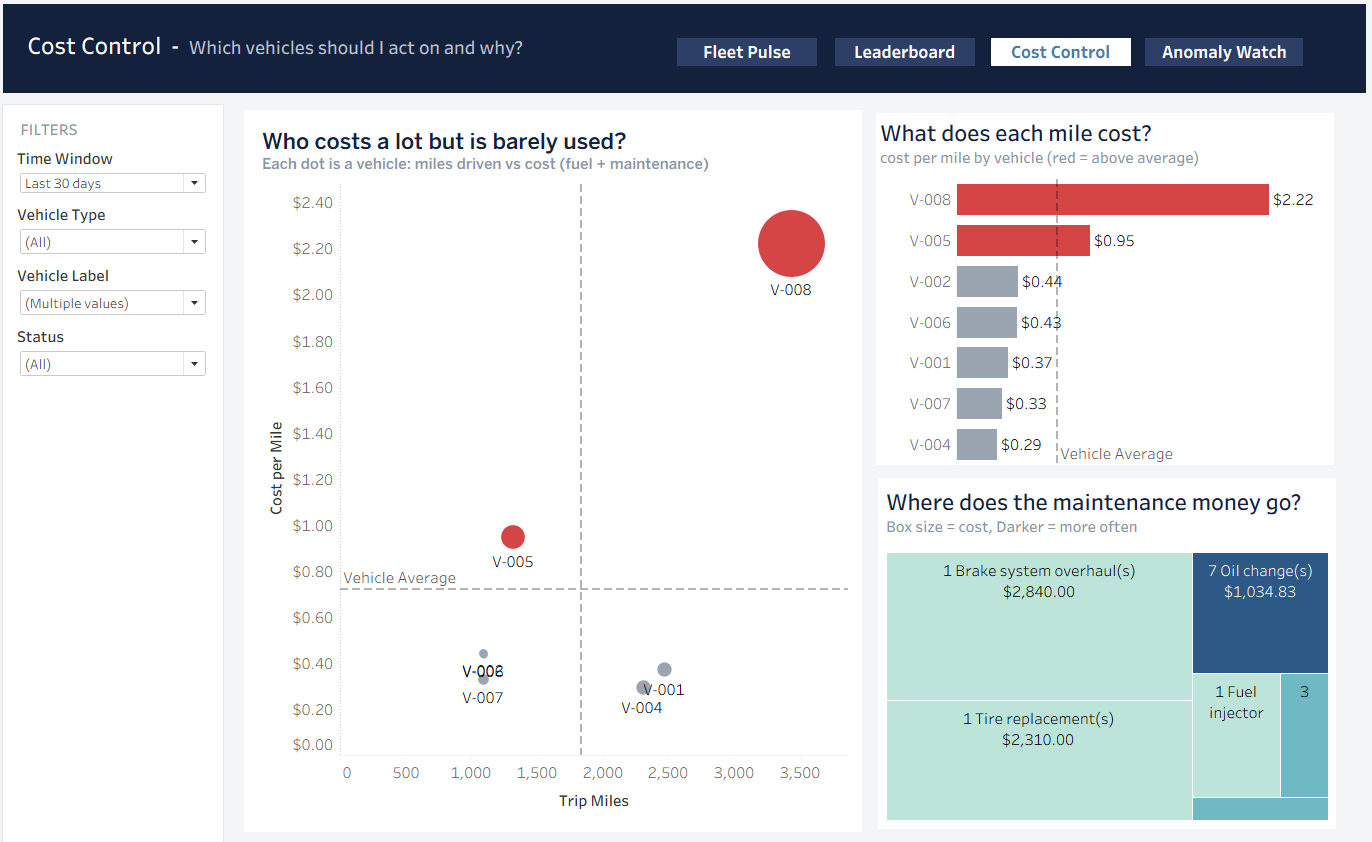

Layout of this report page (visuals, bound fields, positions):
{"tool":"tableau","page":{"name":"Cost Control","canvas":[1400,900],"ordinal":1},"visuals":[{"type":"text","box":[40,37,578,32]},{"type":"dashboard-object","box":[693,46,140,28]},{"type":"dashboard-object","box":[851,46,140,28]},{"type":"dashboard-object","box":[1007,46,140,28]},{"type":"dashboard-object","box":[1161,46,158,28]},{"type":"worksheet","title":"Cost per Mile","mark":"Automatic","rows":["vehicle_code"],"cols":["Calculation_0860095033524233"],"box":[888,117,466,359.9]},{"type":"text","box":[29,123,200,29]},{"type":"worksheet","title":"Cost vs Usage","mark":"Circle","rows":["Calculation_0860095033524233"],"cols":["trip_miles"],"box":[270,128,598,702]},{"type":"parameter","param":"[Parameters].[Parameter 0860095027589120]","box":[29,152,200,56]},{"type":"filter","title":"Cost vs Usage","param":"[federated.0ieta591od6l6310zs0tm09nx7go].[none:vehicle_type:nk]","box":[29,208,200,61]},{"type":"filter","title":"Cost vs Usage","param":"[federated.0ieta591od6l6310zs0tm09nx7go].[none:Calculation_1711941793247232:nk]","box":[29,269,200,61]},{"type":"filter","title":"Cost per Mile","param":"[federated.0ieta591od6l6310zs0tm09nx7go].[none:status:nk]","box":[29,330,200,61]},{"type":"worksheet","title":"Maintenance Treemap","mark":"Square","box":[894,486,458,351]}]}

Visuals, with their boxes on the page's 1400x900 design canvas (x1, y1, x2, y2). These are canvas units, not pixel positions in the 1372x842 screenshot, which may show the page scaled, cropped or inside an application window:
text: region(40, 37, 618, 69)
dashboard-object: region(693, 46, 833, 74)
dashboard-object: region(851, 46, 991, 74)
dashboard-object: region(1007, 46, 1147, 74)
dashboard-object: region(1161, 46, 1319, 74)
"Cost per Mile" worksheet: region(888, 117, 1354, 477)
text: region(29, 123, 229, 152)
"Cost vs Usage" worksheet (Circle marks): region(270, 128, 868, 830)
parameter: region(29, 152, 229, 208)
"Cost vs Usage" filter: region(29, 208, 229, 269)
"Cost vs Usage" filter: region(29, 269, 229, 330)
"Cost per Mile" filter: region(29, 330, 229, 391)
"Maintenance Treemap" worksheet (Square marks): region(894, 486, 1352, 837)
